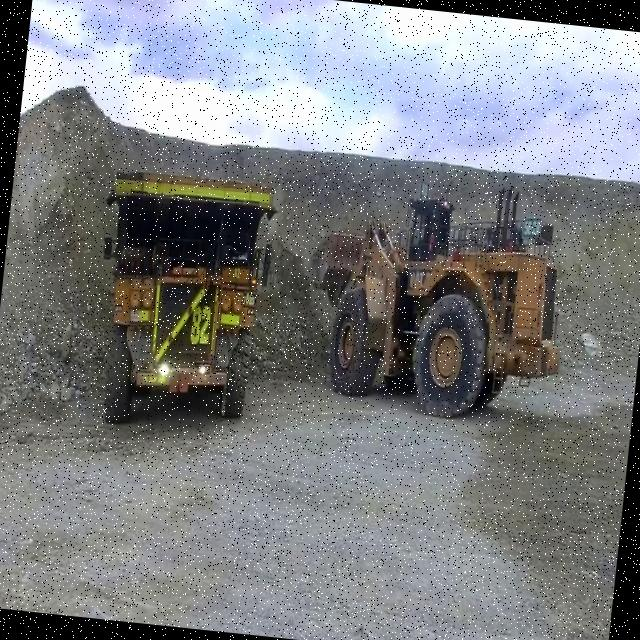Dump Truck: (82, 164, 280, 438)
Loader: (294, 169, 576, 427)
